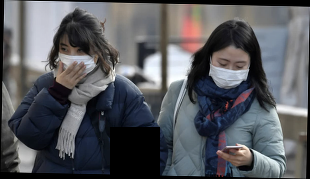with_mask: (209, 57, 250, 91), (57, 42, 95, 78)
